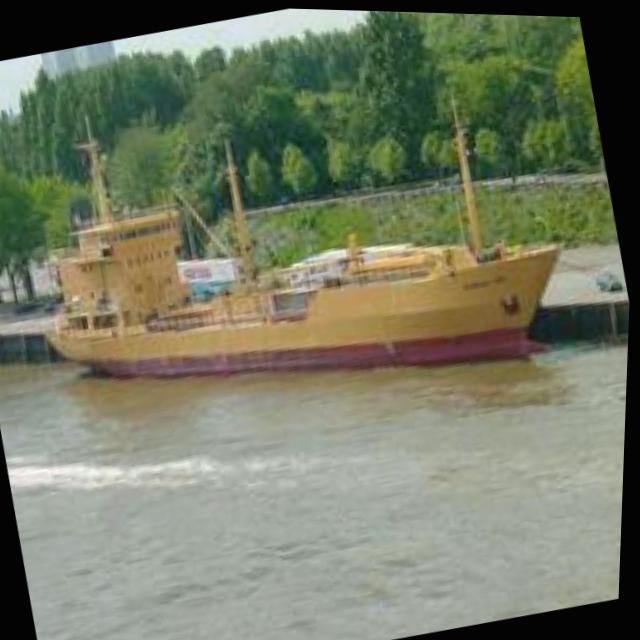ship2: (51, 95, 565, 377)
